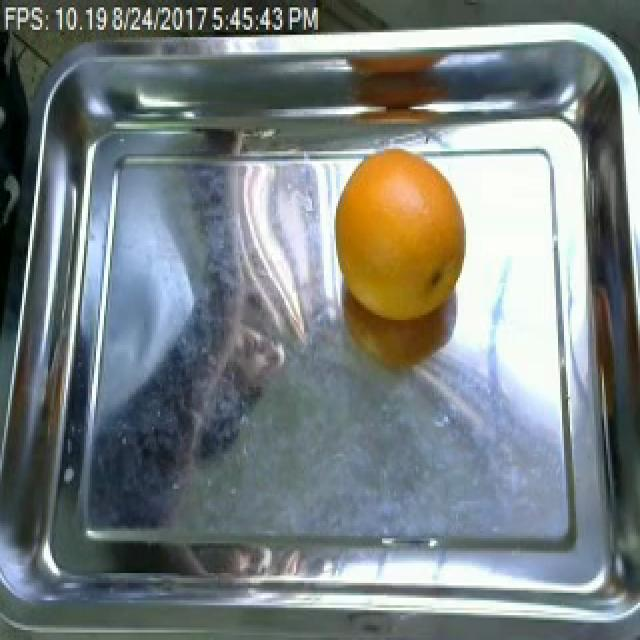Fruit: (328, 146, 474, 372)
